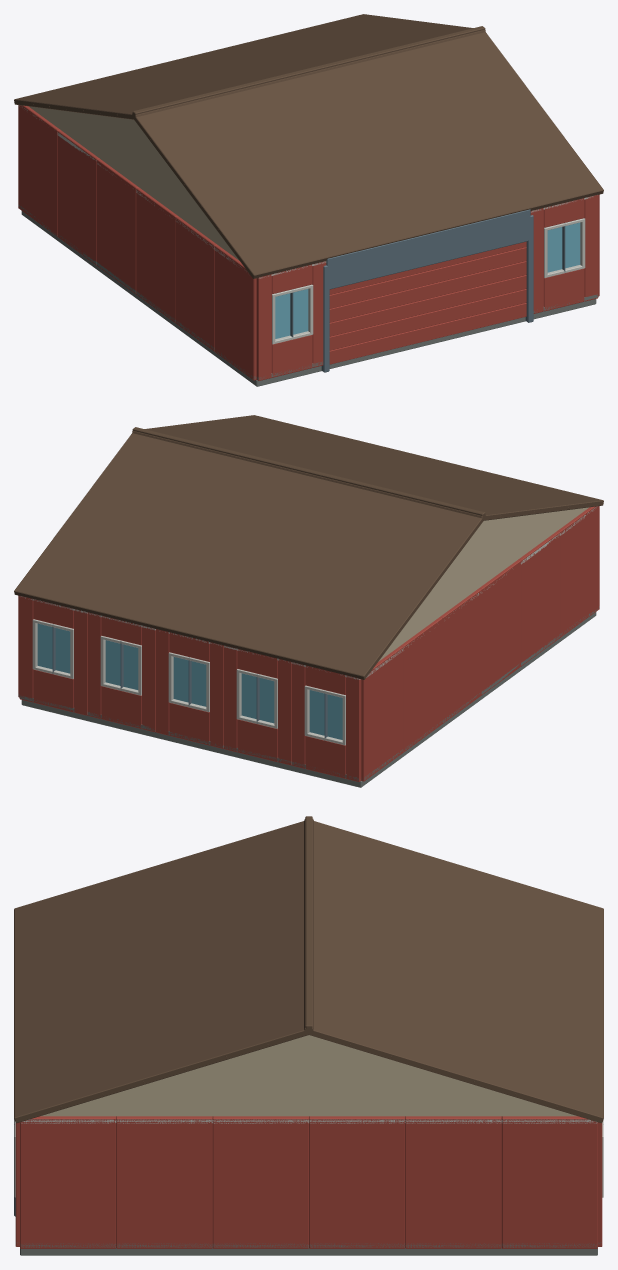
The model's file is architecture-barn.lod0.glb.
The picture shows the model from 3 angles, top to bottom: view 1: azimuth 30°, elevation 25°; view 2: azimuth 150°, elevation 25°; view 3: azimuth 270°, elevation 25°; orthographic projection. The views are drawn at different scales.
Visible parts, largest first — view 1: architecture-barn__body, architecture-barn__loading_door; view 2: architecture-barn__body; view 3: architecture-barn__body.
Part boxes in pixels (x1,y1,x2,y2): architecture-barn__body: (14, 14, 603, 386); architecture-barn__loading_door: (329, 241, 526, 364); architecture-barn__body: (14, 415, 603, 787); architecture-barn__body: (14, 816, 603, 1255).
Bounding box in the file's own units: 10.31 × 5.35 × 12.25.
